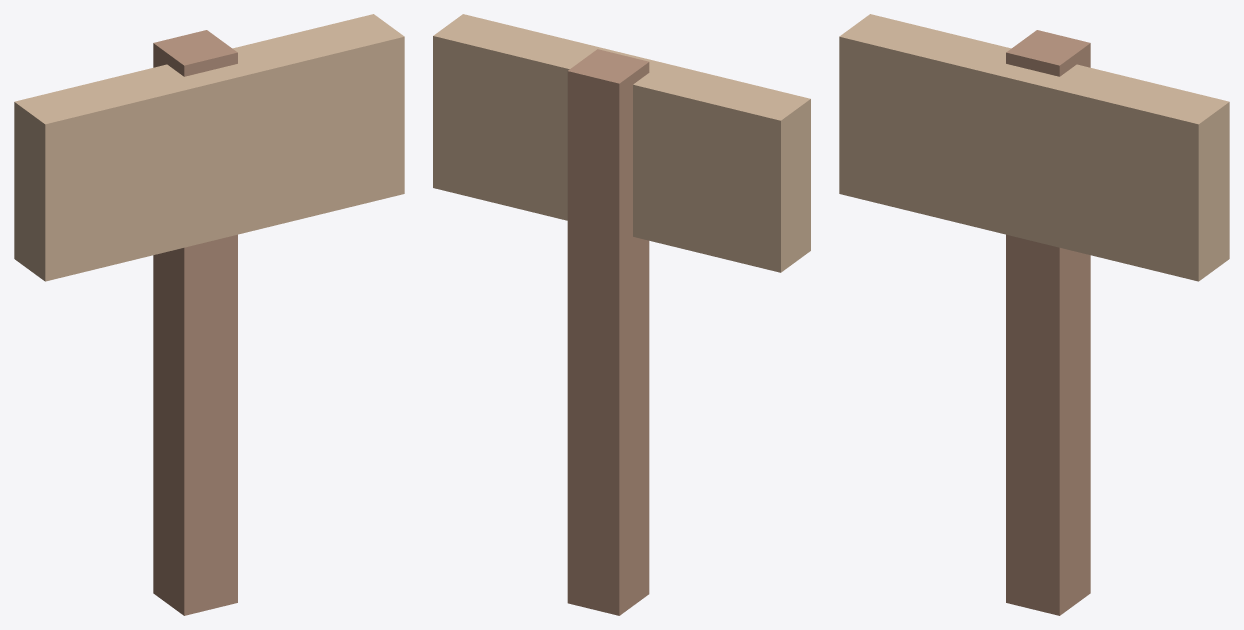
The model's file is rp_sign.glb.
3 views of the same model, side by side, from view 1: azimuth 30°, elevation 25°; view 2: azimuth 150°, elevation 25°; view 3: azimuth 330°, elevation 25° (orthographic). The views are drawn at different scales.
Visible parts, largest first — view 1: Wooden_Sign; view 2: Wooden_Sign; view 3: Wooden_Sign.
Part boxes in pixels (x1,y1,x2,y2): Wooden_Sign: [14, 14, 404, 615]; Wooden_Sign: [433, 14, 810, 615]; Wooden_Sign: [839, 14, 1229, 615].
Bounding box in the file's own units: 0.67 × 0.98 × 0.145.
